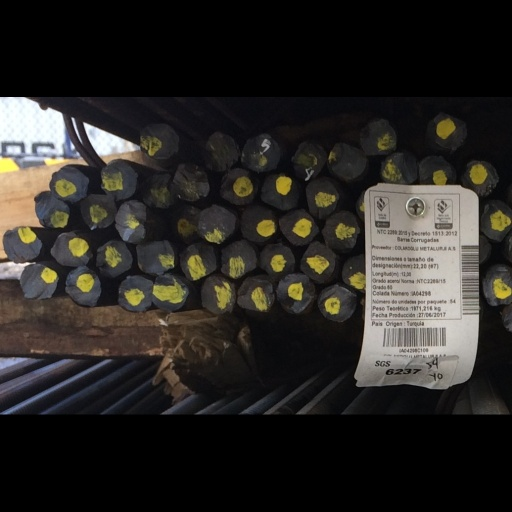dipstick: (425, 23, 472, 95), (168, 105, 214, 175), (274, 287, 316, 353), (298, 234, 339, 300), (322, 183, 360, 253), (460, 100, 502, 162), (257, 234, 299, 295), (317, 301, 357, 365), (328, 69, 367, 134), (244, 56, 283, 120), (279, 178, 319, 240), (198, 170, 237, 233), (100, 99, 138, 163), (220, 115, 261, 174), (66, 272, 105, 334), (200, 286, 237, 351), (260, 122, 300, 182), (137, 41, 179, 98), (179, 233, 216, 297), (31, 149, 69, 211), (51, 217, 92, 274), (135, 230, 176, 287), (305, 133, 343, 194), (78, 154, 116, 215), (291, 66, 327, 130), (152, 286, 191, 345), (237, 287, 275, 347), (139, 121, 174, 186), (3, 210, 42, 268), (49, 108, 89, 164), (95, 228, 134, 285), (206, 57, 243, 117), (27, 267, 59, 335), (242, 171, 278, 231), (120, 286, 156, 346), (219, 236, 258, 291), (116, 166, 146, 236), (361, 34, 397, 91), (380, 88, 418, 141), (419, 93, 459, 142), (483, 270, 508, 344), (481, 165, 508, 233), (165, 181, 198, 233), (343, 258, 365, 315)
